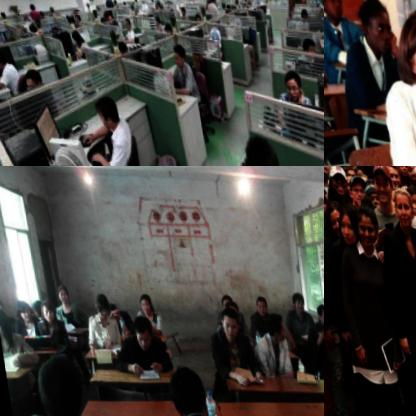head: (27, 350, 81, 416), (157, 359, 204, 415), (350, 0, 392, 53), (392, 5, 416, 97), (234, 130, 275, 166), (348, 198, 375, 244), (86, 91, 117, 131), (332, 202, 360, 243), (274, 64, 304, 100), (125, 314, 151, 353), (388, 184, 412, 223), (366, 166, 391, 201), (258, 306, 282, 339), (213, 305, 237, 337), (324, 198, 343, 235), (324, 166, 346, 196), (87, 290, 108, 321), (360, 180, 381, 210), (344, 171, 363, 203), (15, 66, 37, 92), (293, 27, 313, 53), (163, 37, 181, 63), (33, 300, 52, 323), (324, 0, 345, 20), (10, 301, 28, 322), (248, 291, 264, 313), (133, 292, 149, 314), (287, 290, 302, 311), (219, 295, 235, 314), (213, 288, 228, 308), (310, 299, 324, 320), (380, 166, 398, 182), (64, 24, 79, 43), (292, 0, 306, 18), (51, 284, 65, 302), (102, 301, 116, 317), (25, 299, 38, 316), (111, 34, 123, 51), (411, 169, 416, 207), (400, 166, 416, 177), (117, 13, 127, 27), (68, 7, 77, 22), (147, 7, 156, 21), (318, 290, 324, 306), (392, 166, 405, 173), (189, 5, 197, 15), (23, 0, 31, 8), (174, 0, 181, 9), (160, 18, 166, 27)
